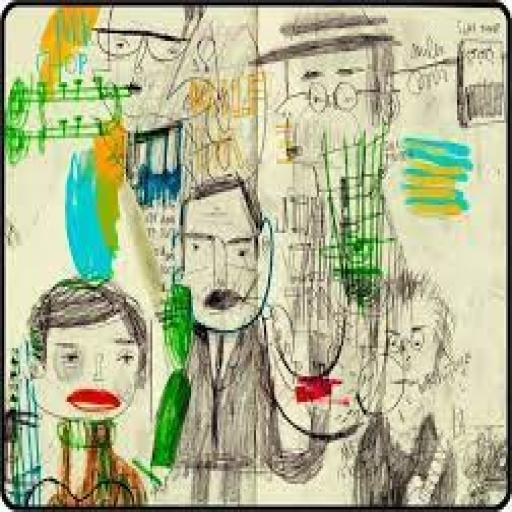person: (167, 176, 275, 511), (350, 262, 485, 500), (25, 278, 151, 503), (253, 10, 413, 182), (102, 5, 216, 176)
